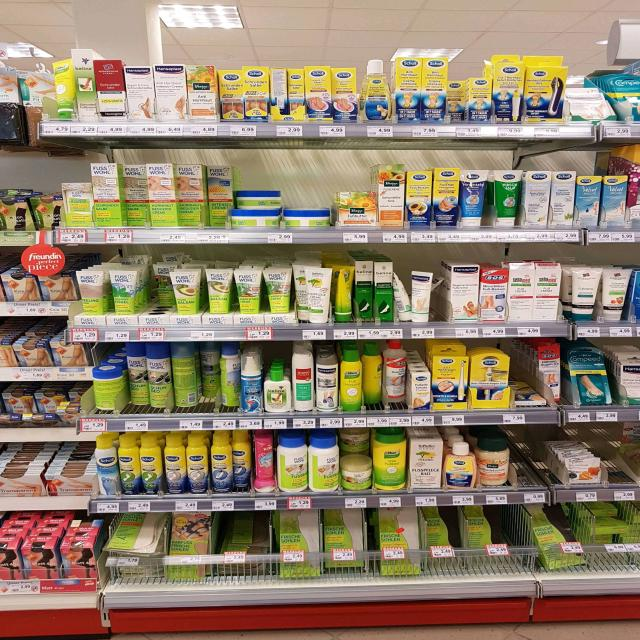void: (514, 424, 560, 486), (605, 423, 640, 483)
